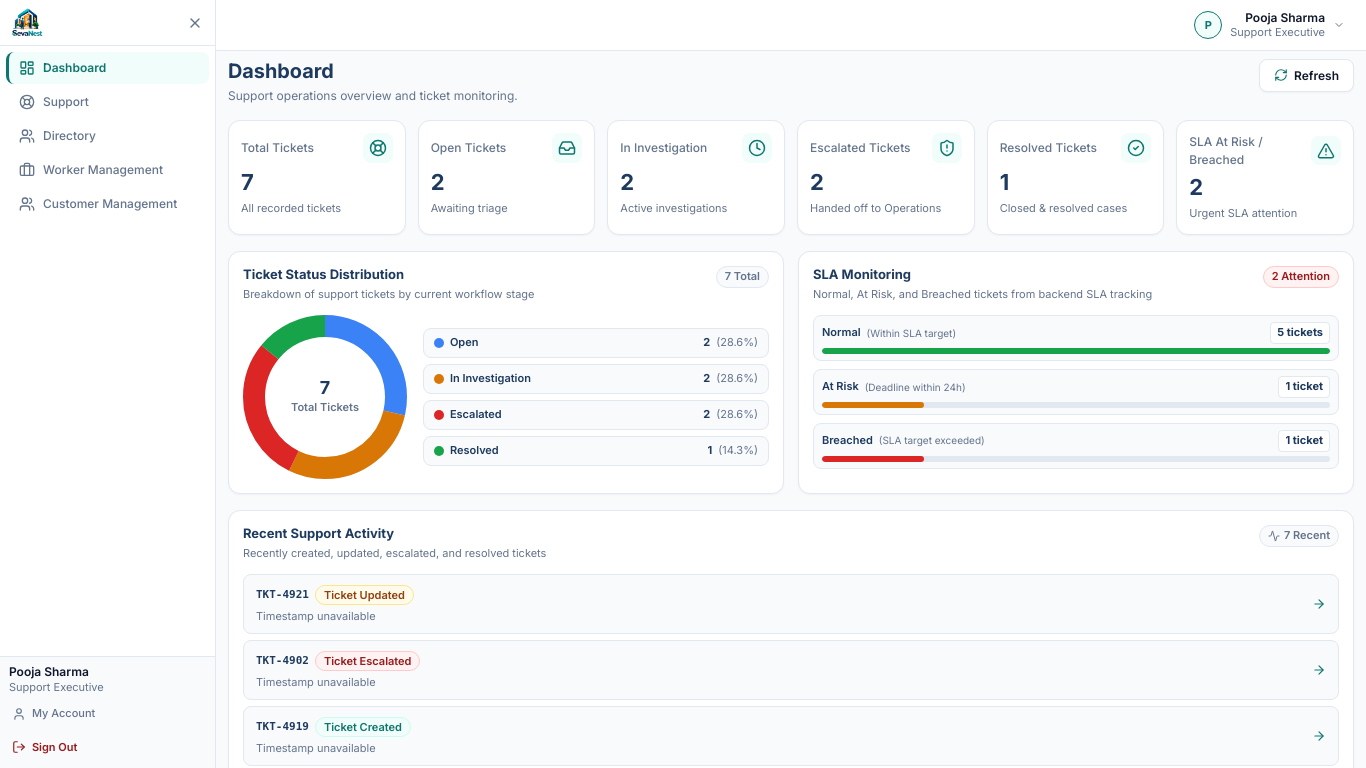
Test: Support Executive Master Role & Operational Workflows › 1. Support Executive Analytics Dashboard › preserves Support Executive sidebar order and opens ticket details/chat directly from Recent Support Activity inside Dashboard
This screenshot has width=1366, height=768.
Expected: the heading "Dashboard" is shown, [228,59,334,83]
Expected: the links read "Dashboard", "Support", "Directory", "Worker Management", "Customer Management", in this order, [6,52,209,84]; [19,94,89,110]; [19,128,96,144]; [19,162,163,178]; [19,196,177,212]
Click the button "TKT-4921 Ticket Updated Timestamp unavailable": [282, 595] box [243,574,1339,634]
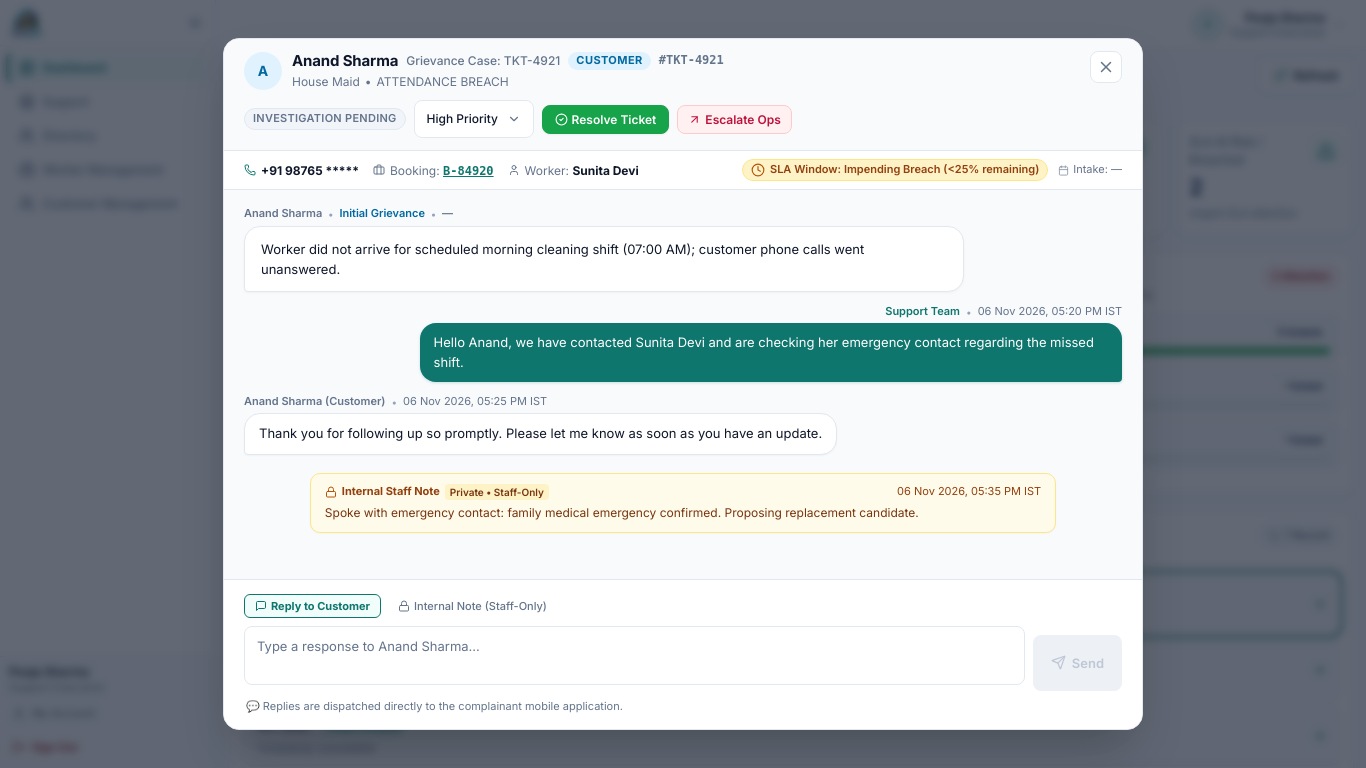
Result: the dialog is shown
// Verify chat functionality works directly inside Dashboard modal
In the text box named "Support reply text": [634, 656] box [244,626,1025,685], type "Reached out to complainant from Dashboard chat modal."
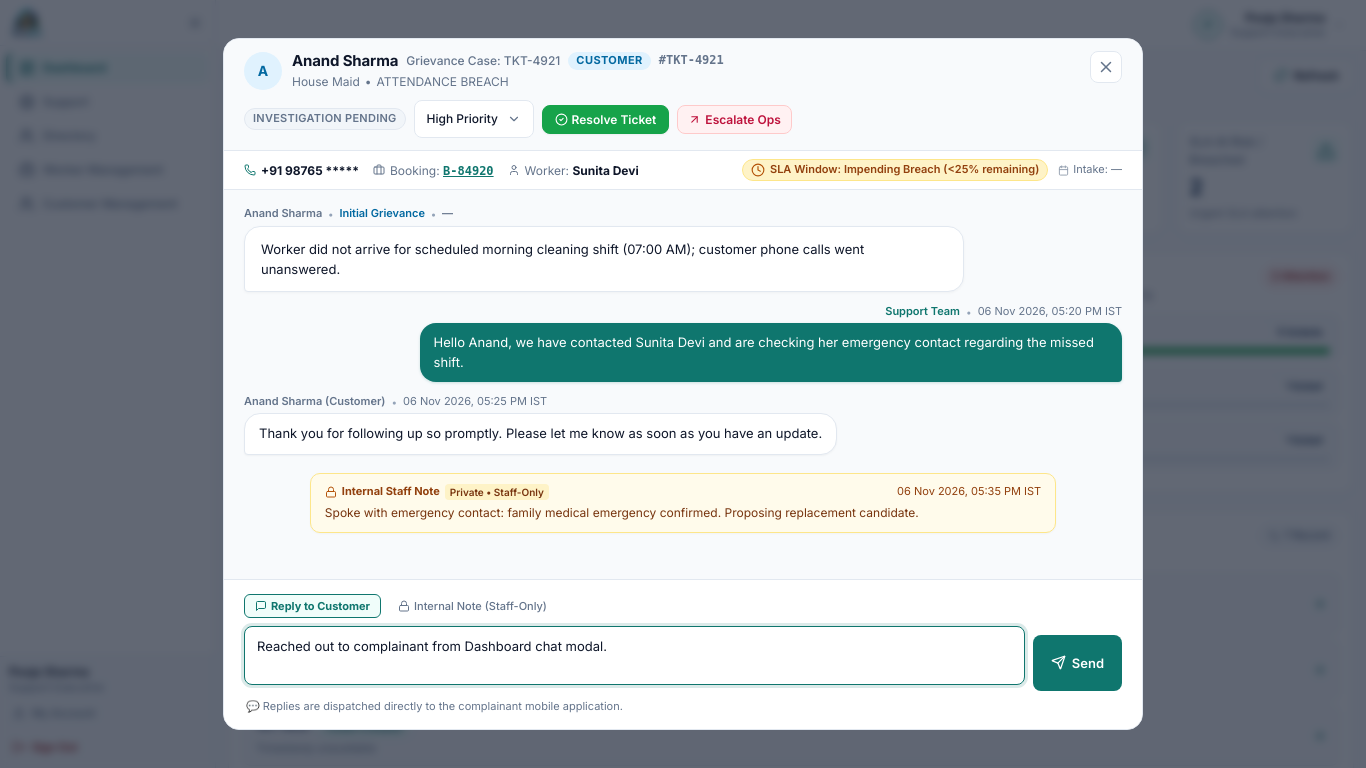
Result: the button "Send" is enabled at [1033,635,1122,691]
